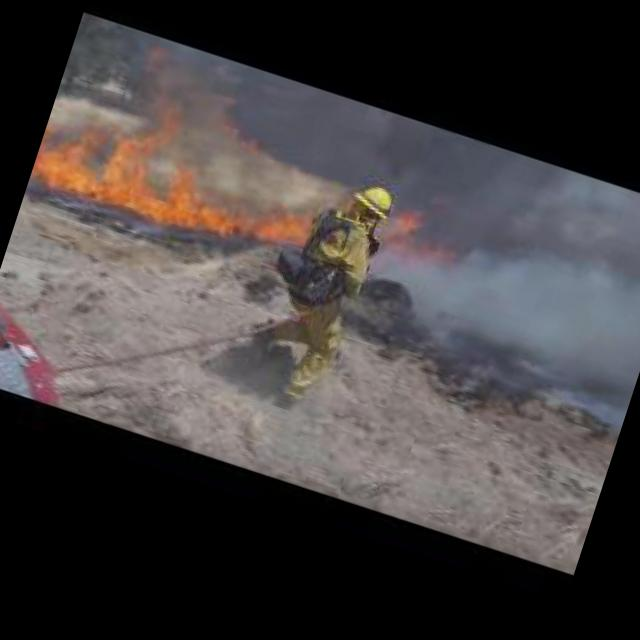fire: (23, 67, 336, 285)
smoke: (366, 178, 640, 393)
